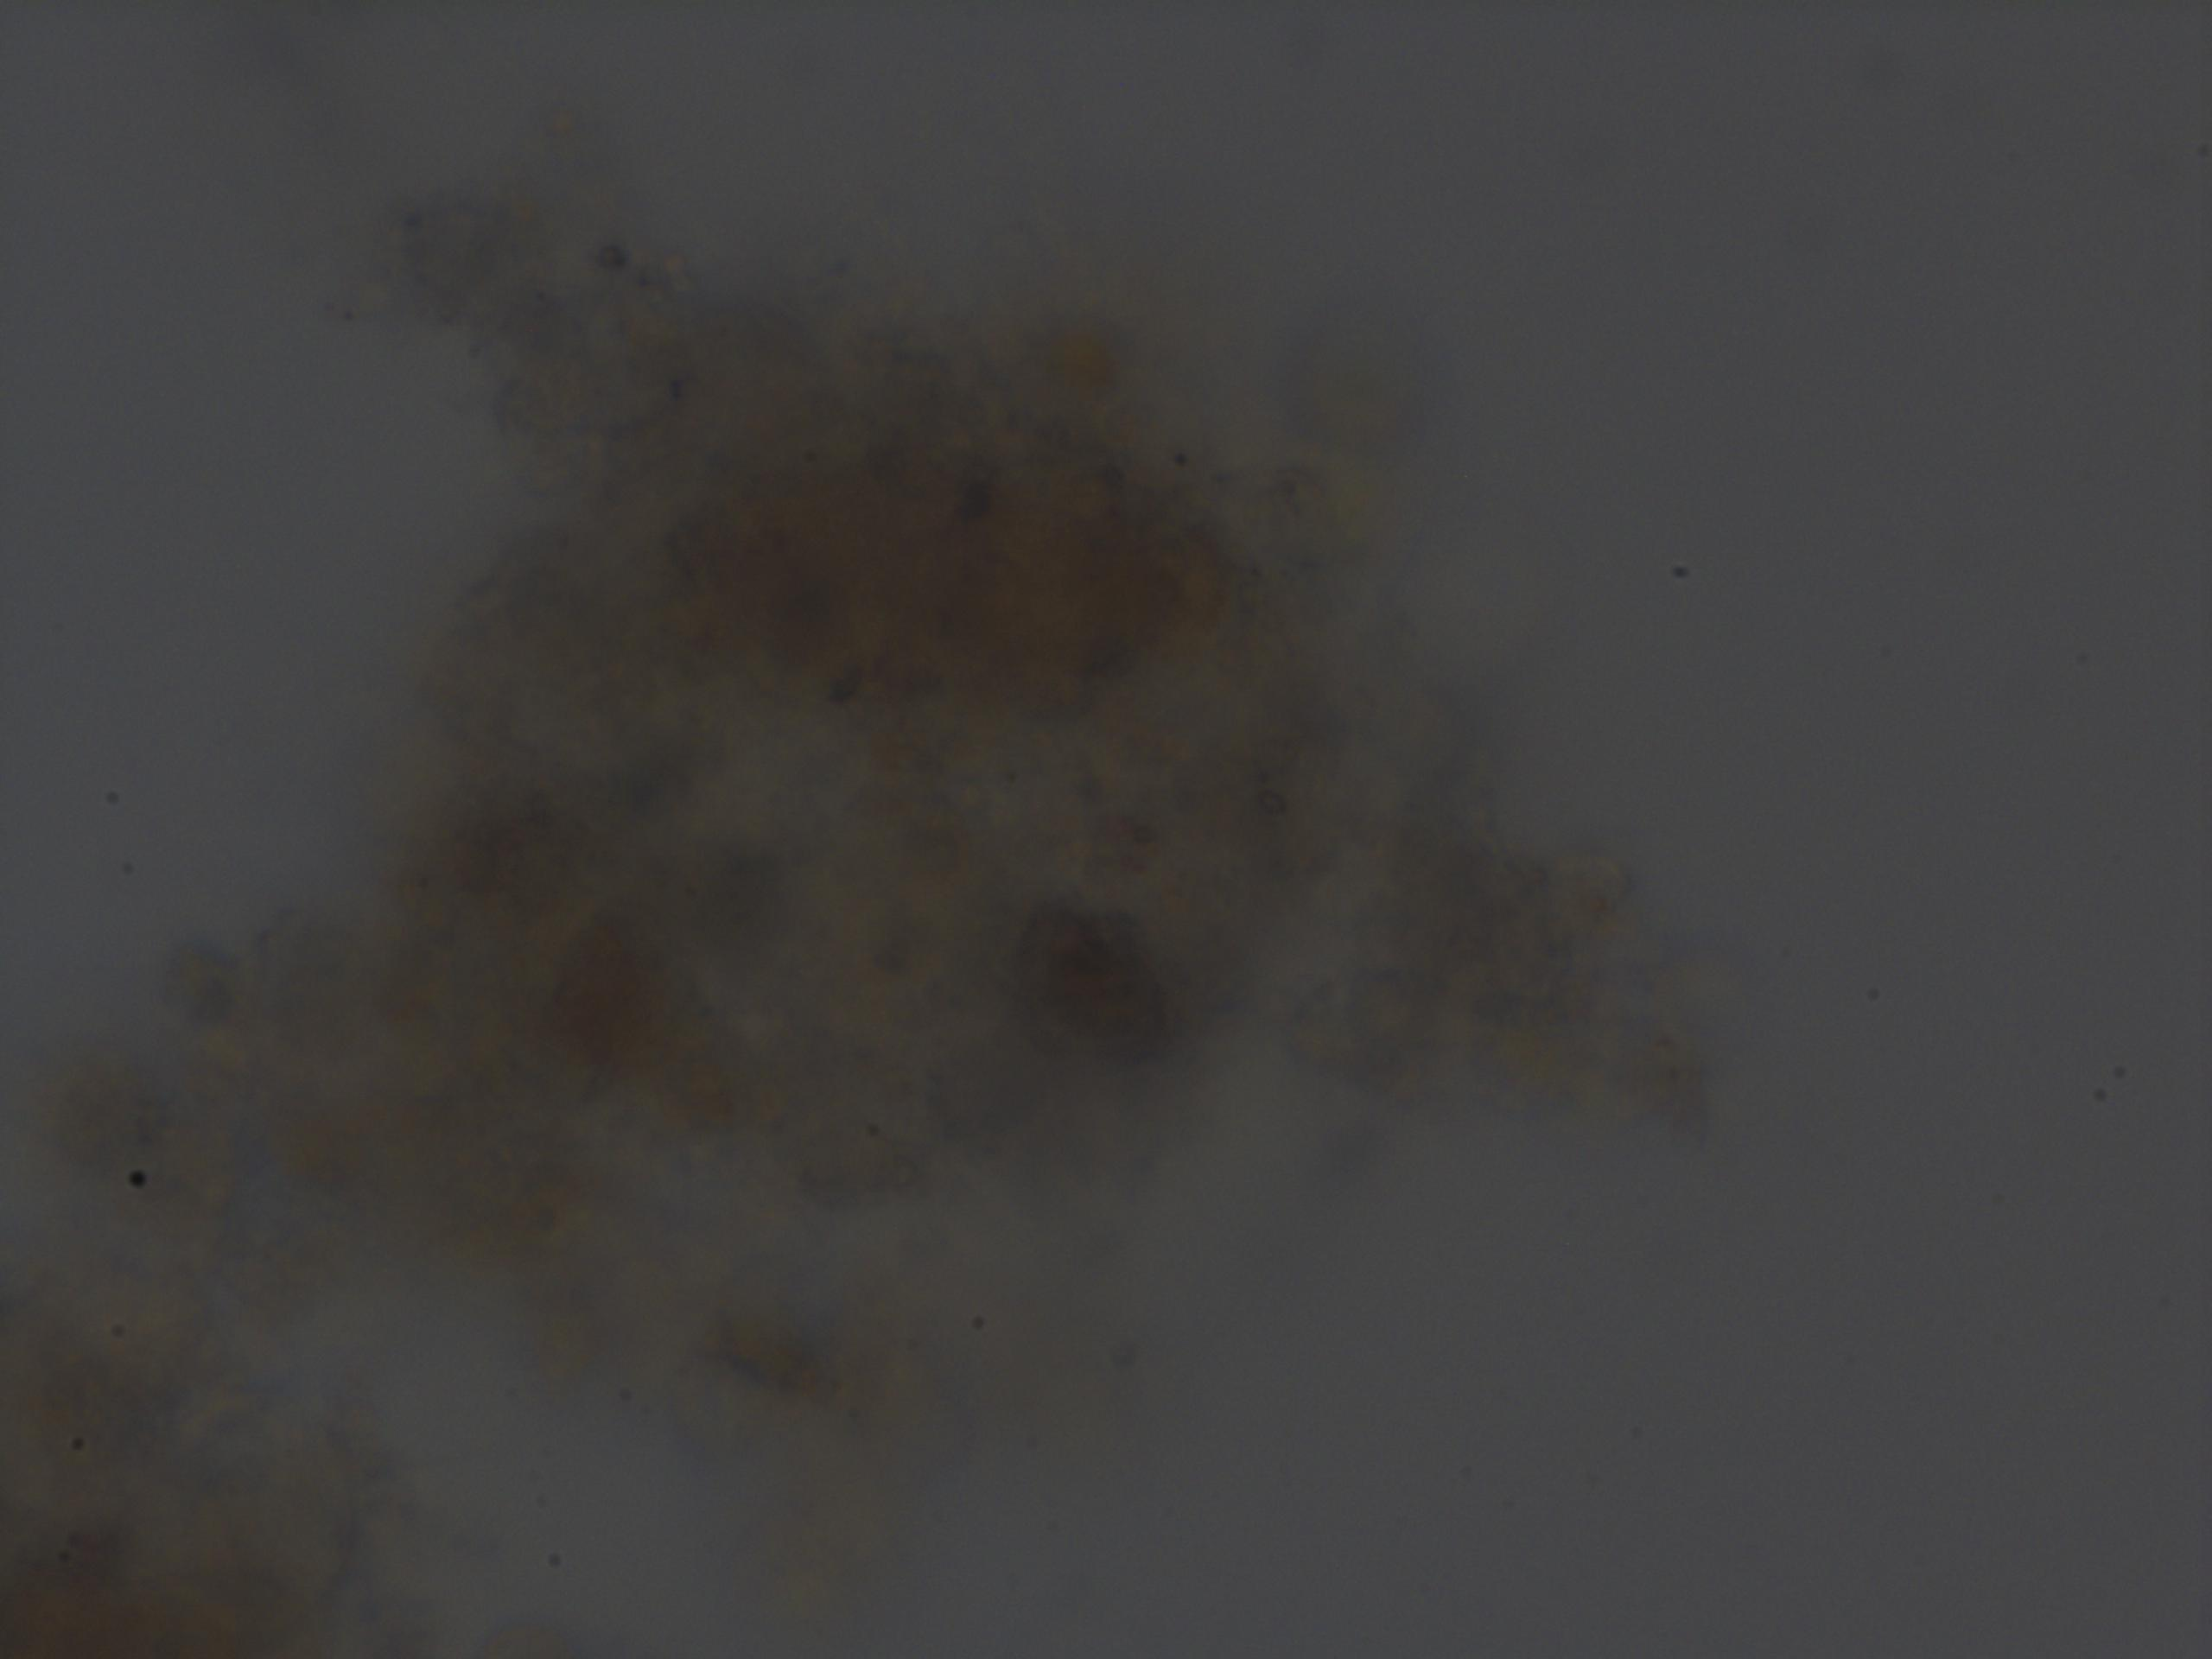open_floc: (0, 195, 1717, 1659)
